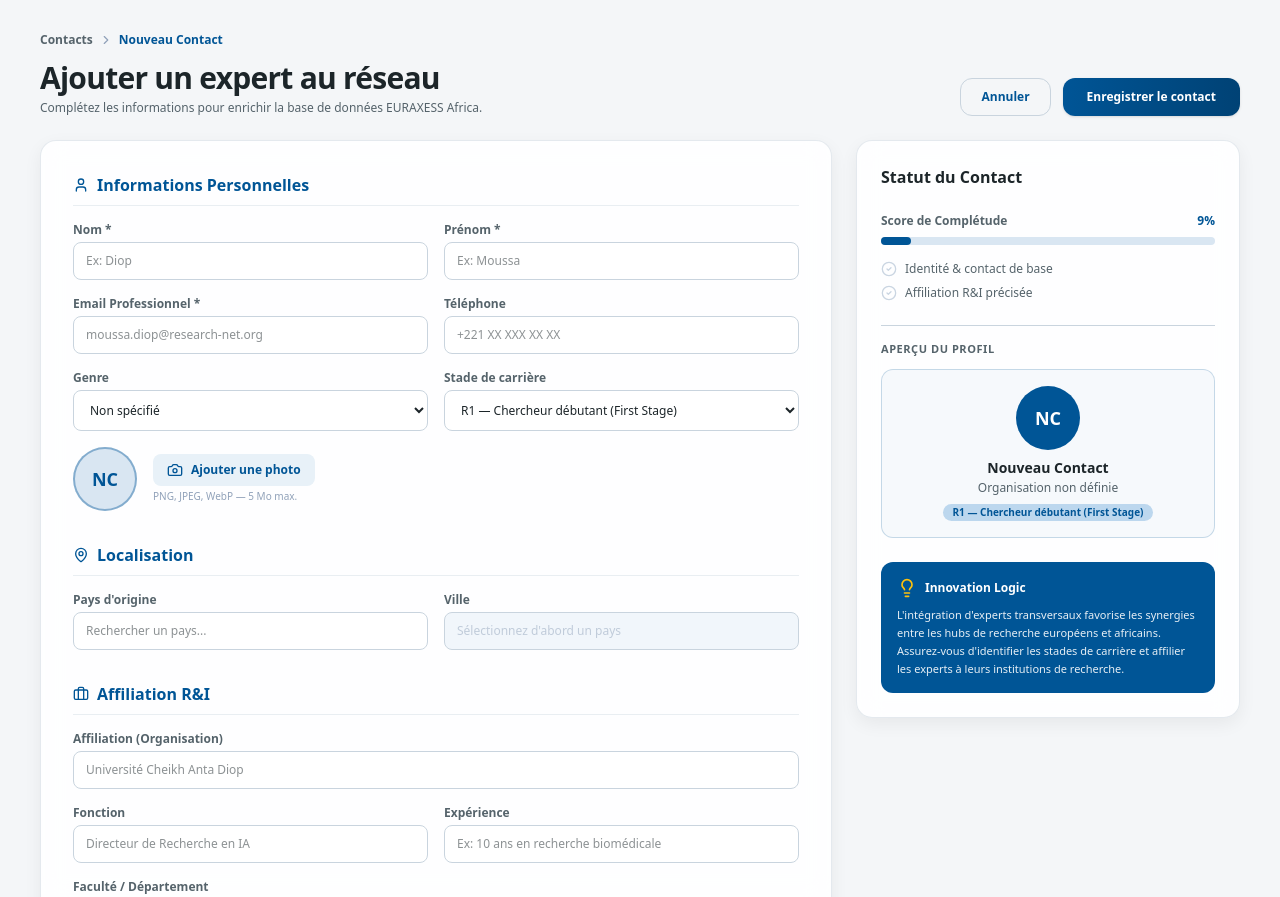
NewContactView › shows invalid email error for malformed email
Type "Test" into the field labelled "Prénom *".
click(622, 261); type("Test")  # box x1=444 y1=242 x2=799 y2=280
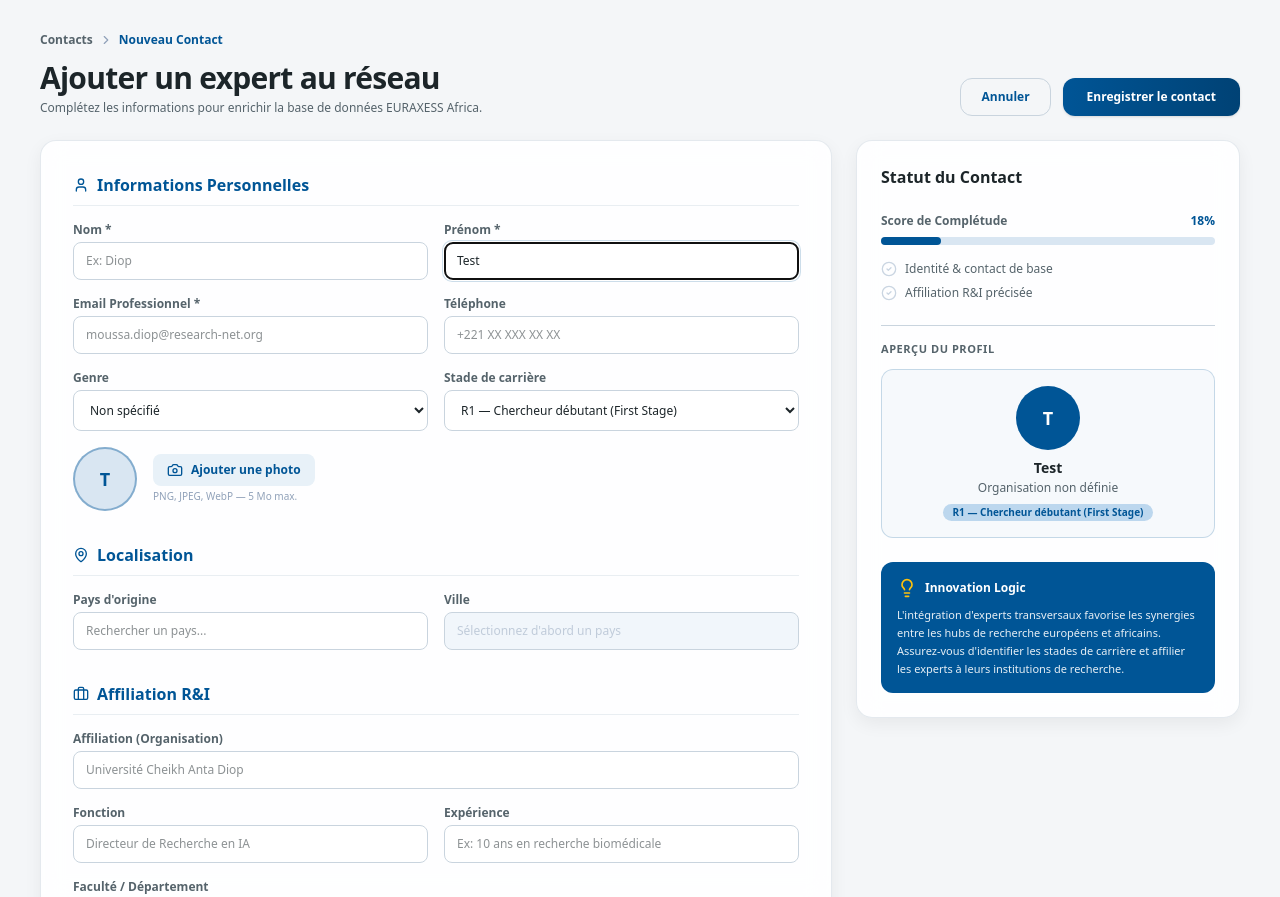
Type "User" into the field labelled "Nom *".
click(250, 261); type("User")  # box x1=73 y1=242 x2=428 y2=280
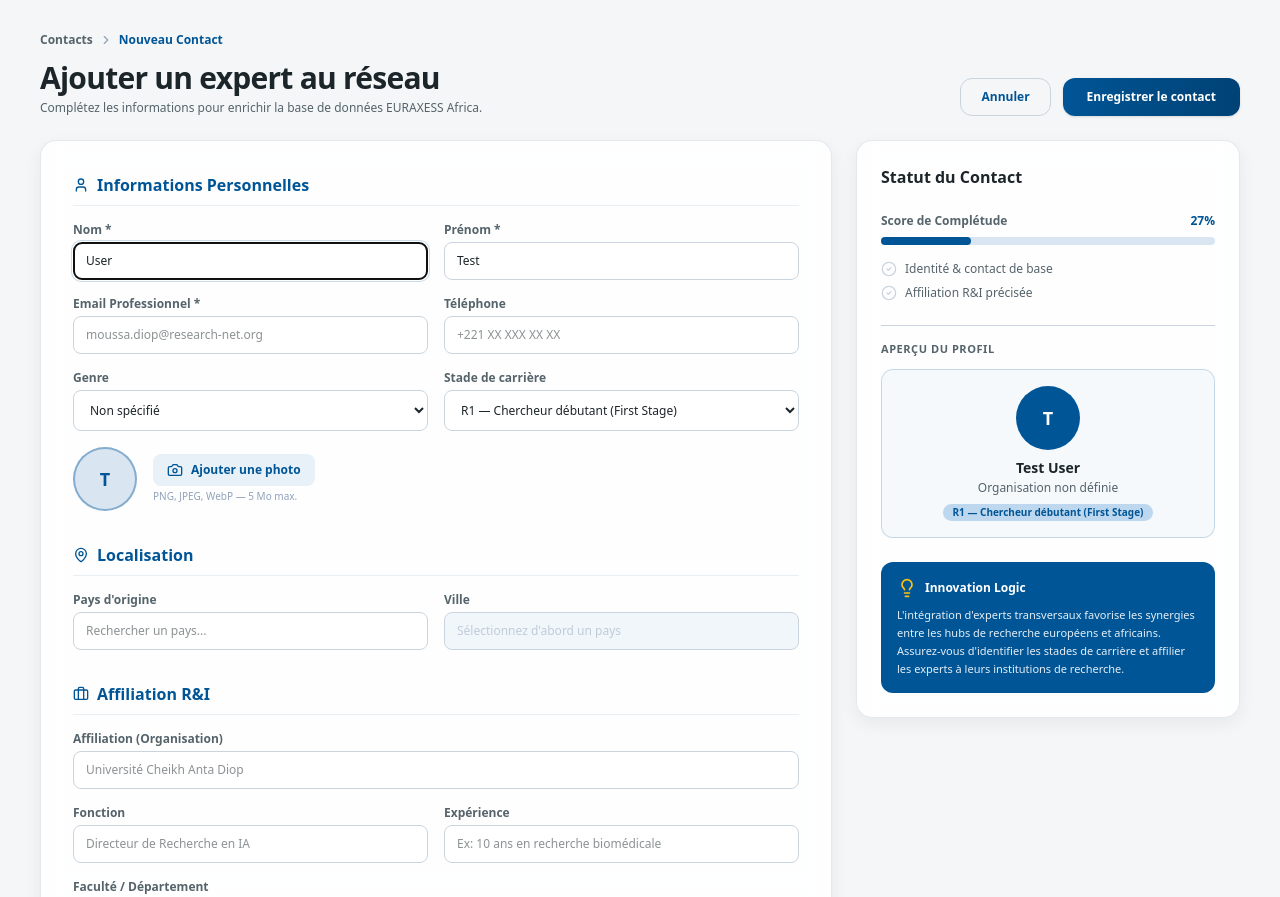
Type "not-an-email" into the field labelled "Email Professionnel *".
click(250, 335); type("not-an-email")  # box x1=73 y1=316 x2=428 y2=354
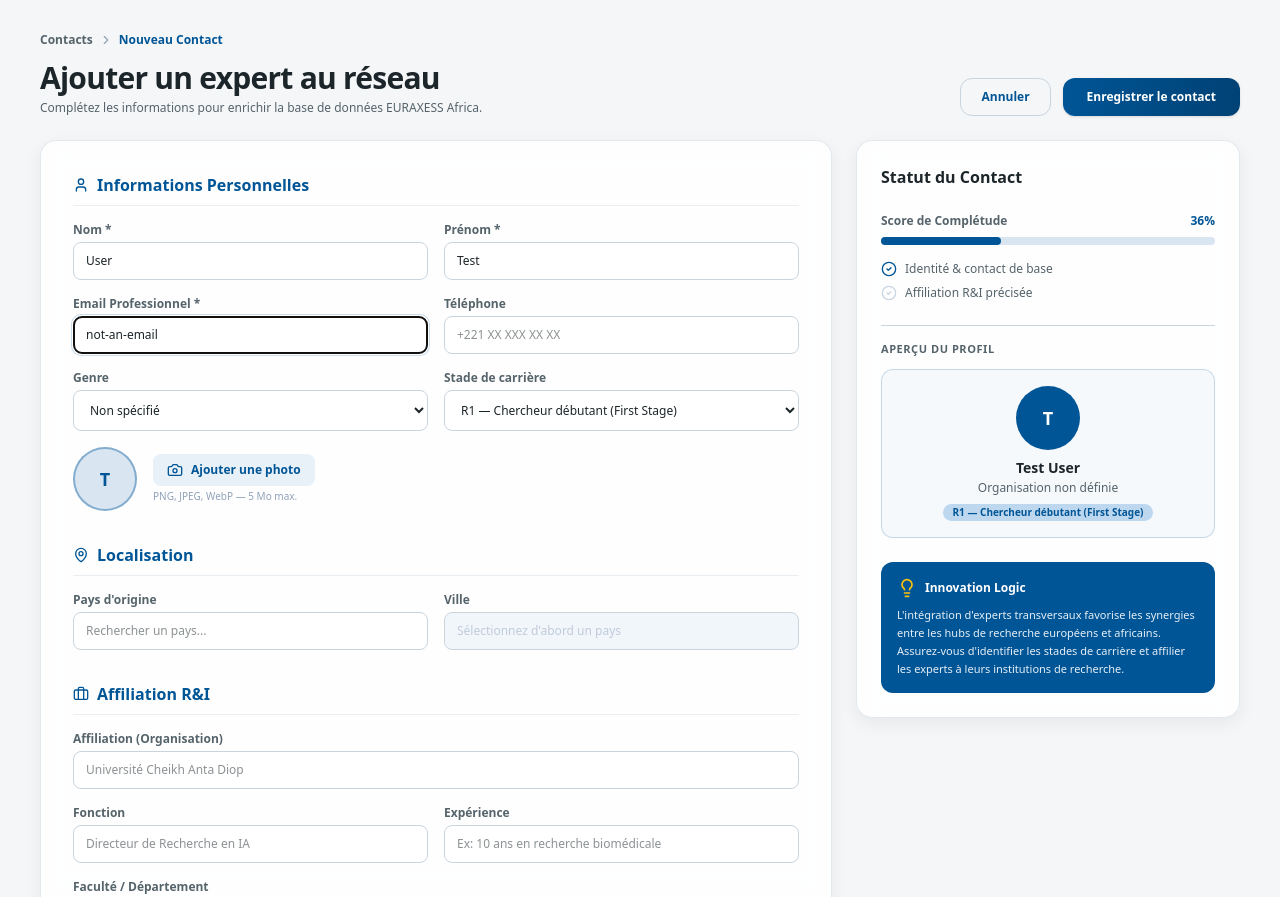
Click the button "Enregistrer le contact".
click(1151, 97)  # box x1=1063 y1=78 x2=1240 y2=116
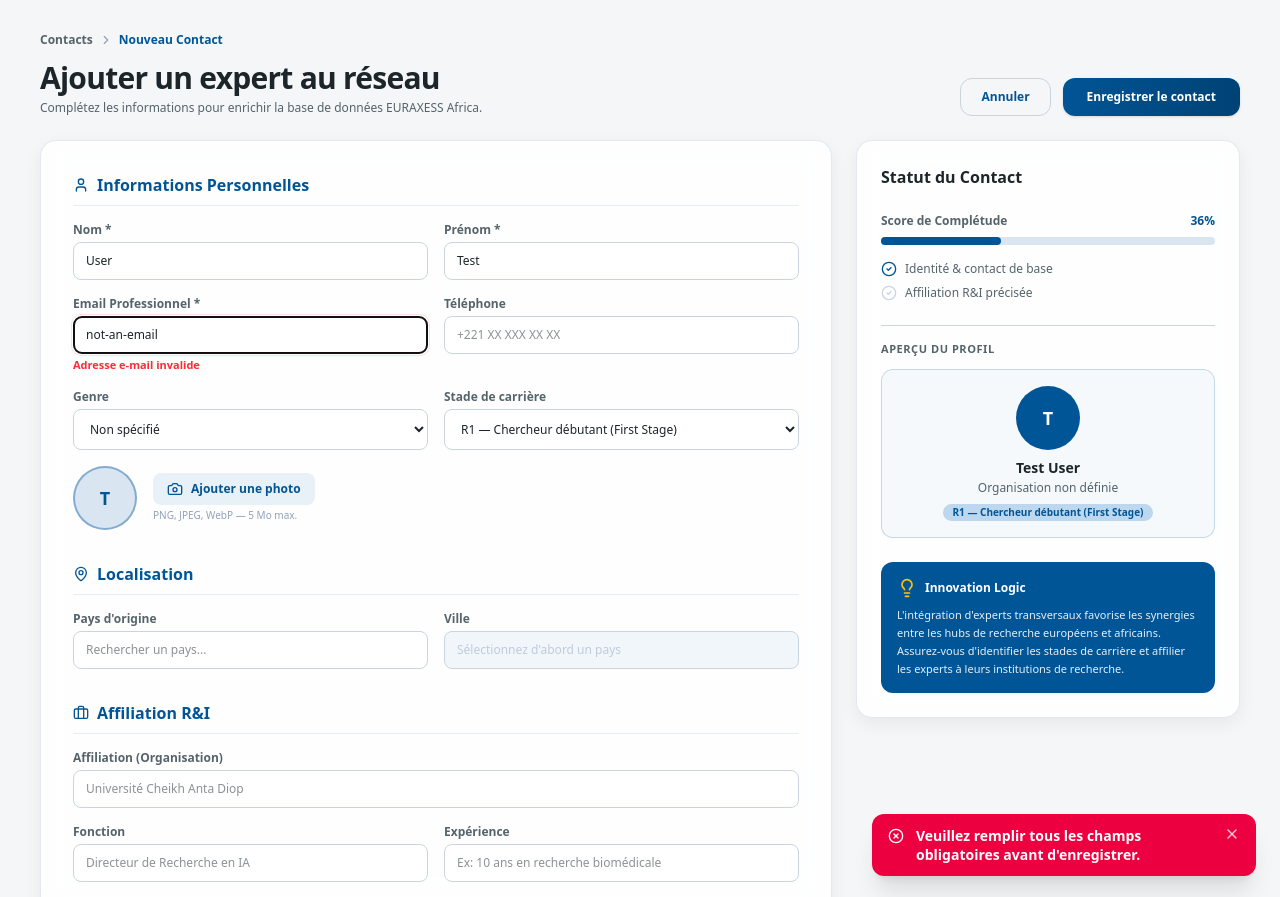
Check: the text "Adresse e-mail invalide" is shown, box x1=73 y1=357 x2=200 y2=372
